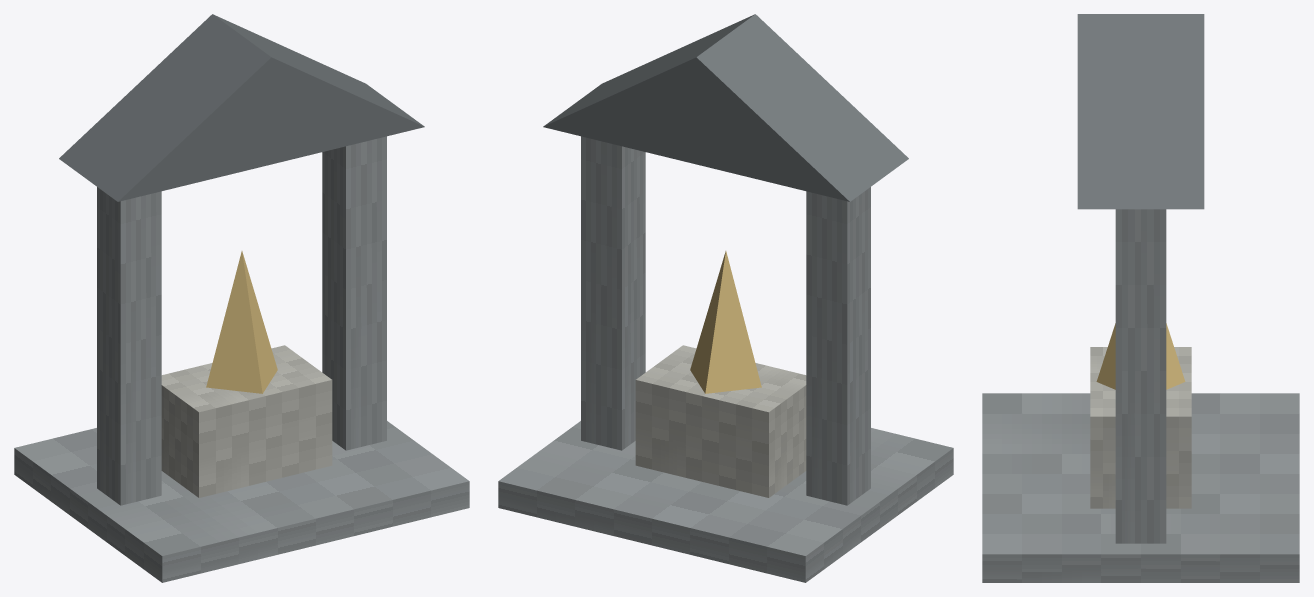
The model's file is dungeon-room-builder-shrine-48752548__25849.glb.
3 renders of one model, left to right at view 1: azimuth 30°, elevation 25°; view 2: azimuth 150°, elevation 25°; view 3: azimuth 270°, elevation 25°, orthographic. The views are drawn at different scales.
Visible parts, largest first — view 1: shrine; view 2: shrine; view 3: shrine.
Part boxes in pixels (<box>): shrine: <box>14,14,469,582</box>; shrine: <box>498,14,953,582</box>; shrine: <box>982,14,1299,582</box>.
Bounding box in the file's own units: 3 × 4.25 × 2.5.
Materials: 4 (2 with a texture image).
